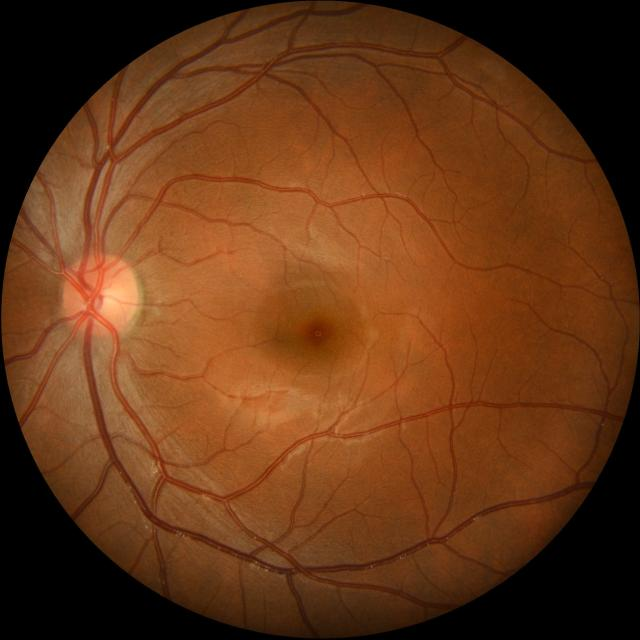OC: (90, 286, 118, 318)
OD: (61, 252, 139, 338)
